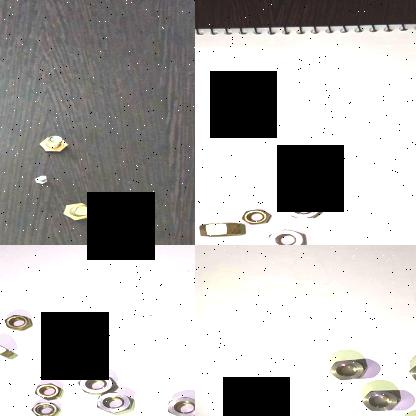Bolts: (56, 200, 96, 224), (36, 134, 70, 156), (28, 174, 50, 186)
NUTS: (280, 196, 326, 222), (75, 370, 118, 396), (359, 389, 402, 415), (326, 356, 366, 382), (195, 221, 249, 240), (94, 392, 136, 416), (262, 228, 308, 245), (292, 158, 327, 180), (159, 395, 195, 416), (0, 313, 37, 333), (33, 382, 65, 400), (239, 206, 269, 224), (29, 401, 63, 416), (0, 343, 21, 362), (406, 358, 416, 386)
